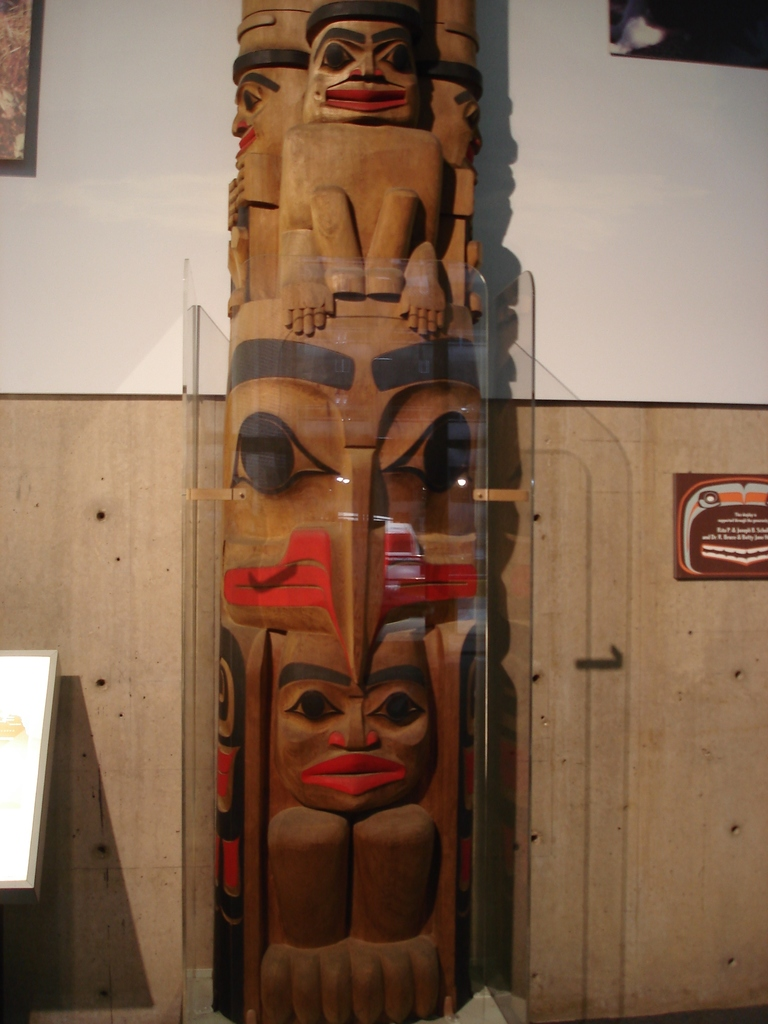face: (306, 1, 420, 153)
